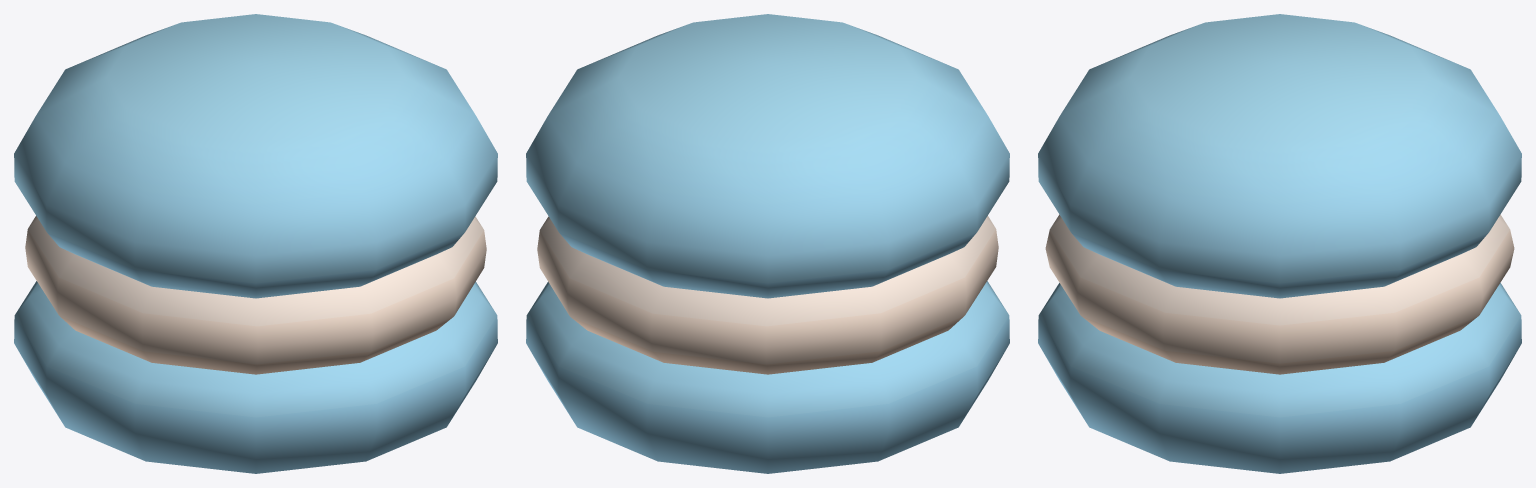
Rendered from macaron-blue.glb.
The picture shows the model from 3 angles, left to right: view 1: azimuth 30°, elevation 25°; view 2: azimuth 150°, elevation 25°; view 3: azimuth 270°, elevation 25°; orthographic projection.
Parts seen in each view (by area): view 1: macaron_blue; view 2: macaron_blue; view 3: macaron_blue.
Boxes of the visible parts, <box> form: macaron_blue: <box>14,14,497,473</box>; macaron_blue: <box>526,14,1009,473</box>; macaron_blue: <box>1038,14,1521,473</box>.
Size of the model in its own units: 0.25 by 0.2 by 0.25.
1 material, 1 textured.
